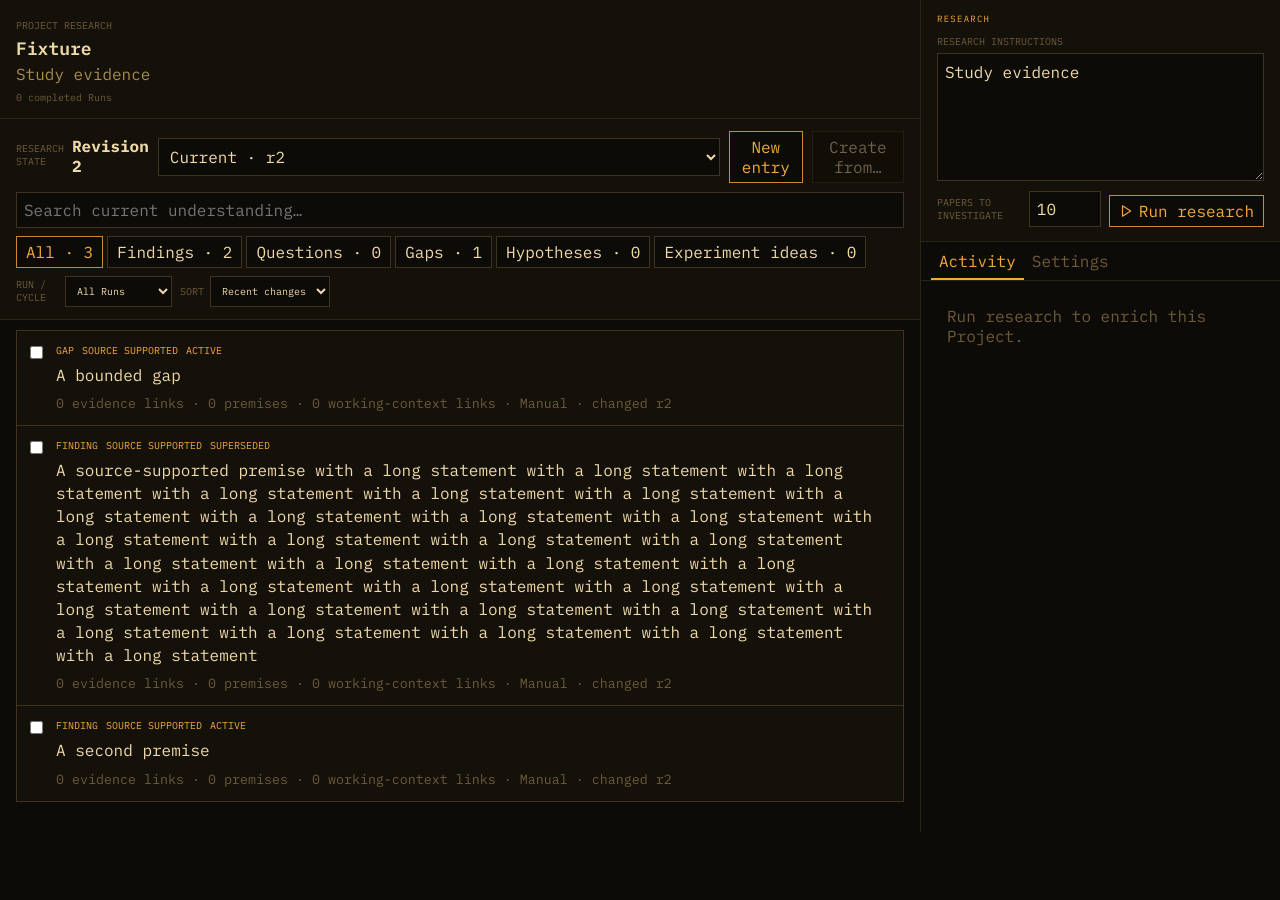
Test: failed navigation keeps the current detail and does not push history
Click the 1st button with class "entry-content": click(130, 350) [43, 331, 903, 425]
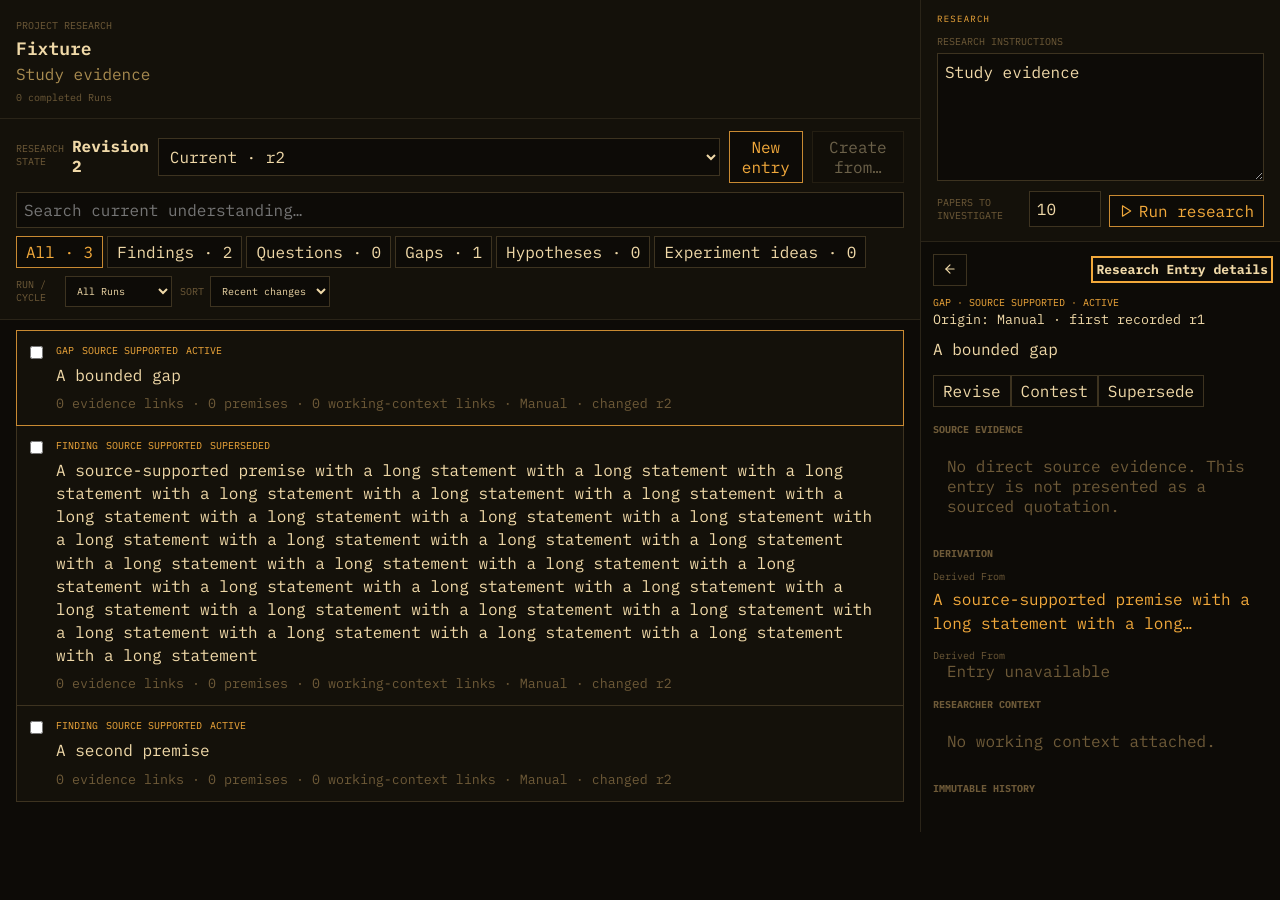
Result: the text with class "detail-text" reads "A bounded gap" at [933, 340, 1058, 360]
Result: the button with class "relation-link" is shown
Click the button with class "relation-link": click(1100, 611) [933, 583, 1268, 639]
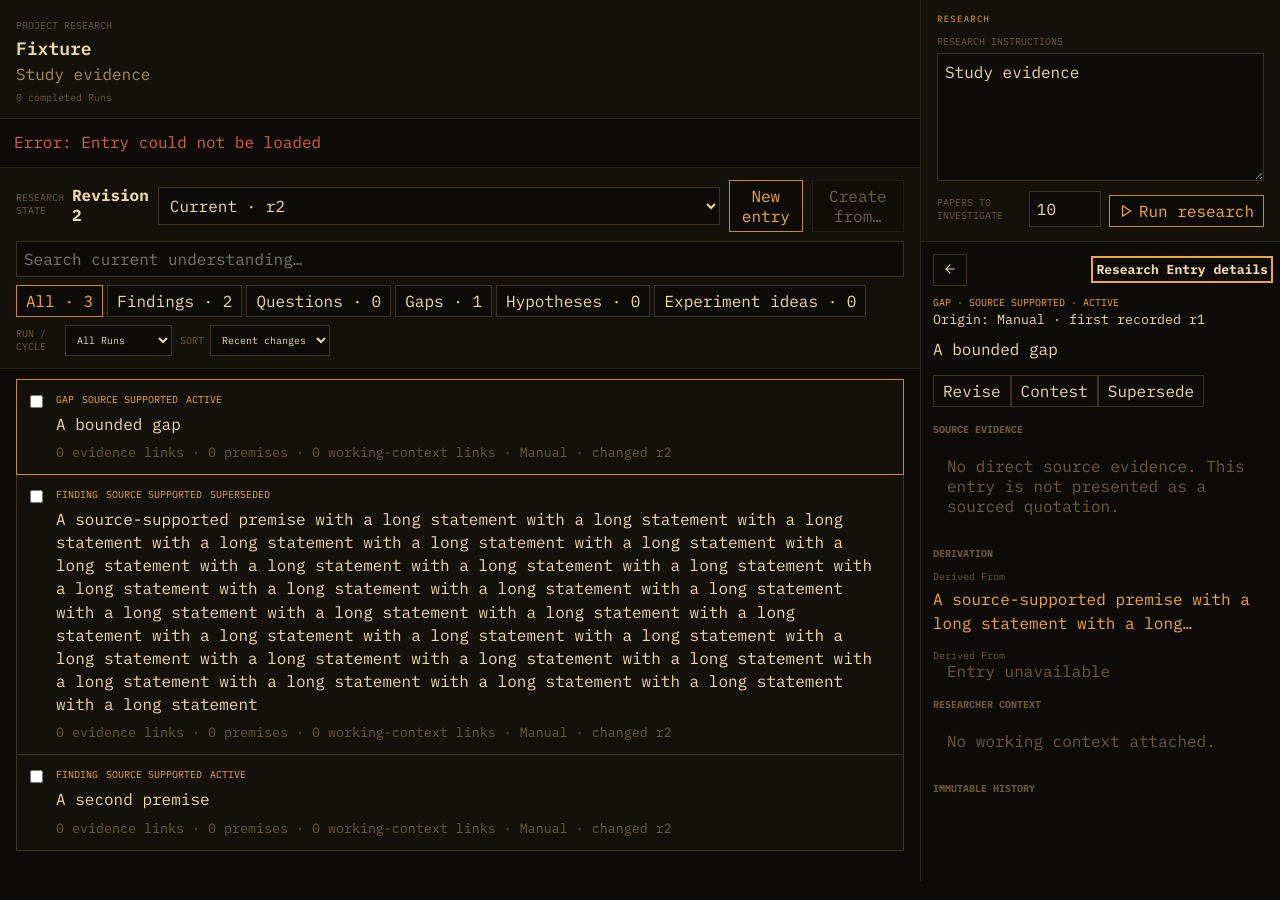
Result: the text with class "detail-text" reads "A bounded gap" at [933, 340, 1058, 360]
Result: the button named "Back" is shown
Result: the text "Entry could not be loaded" is shown at [14, 133, 321, 153]
Click the button named "Back": click(950, 270) [933, 254, 967, 286]
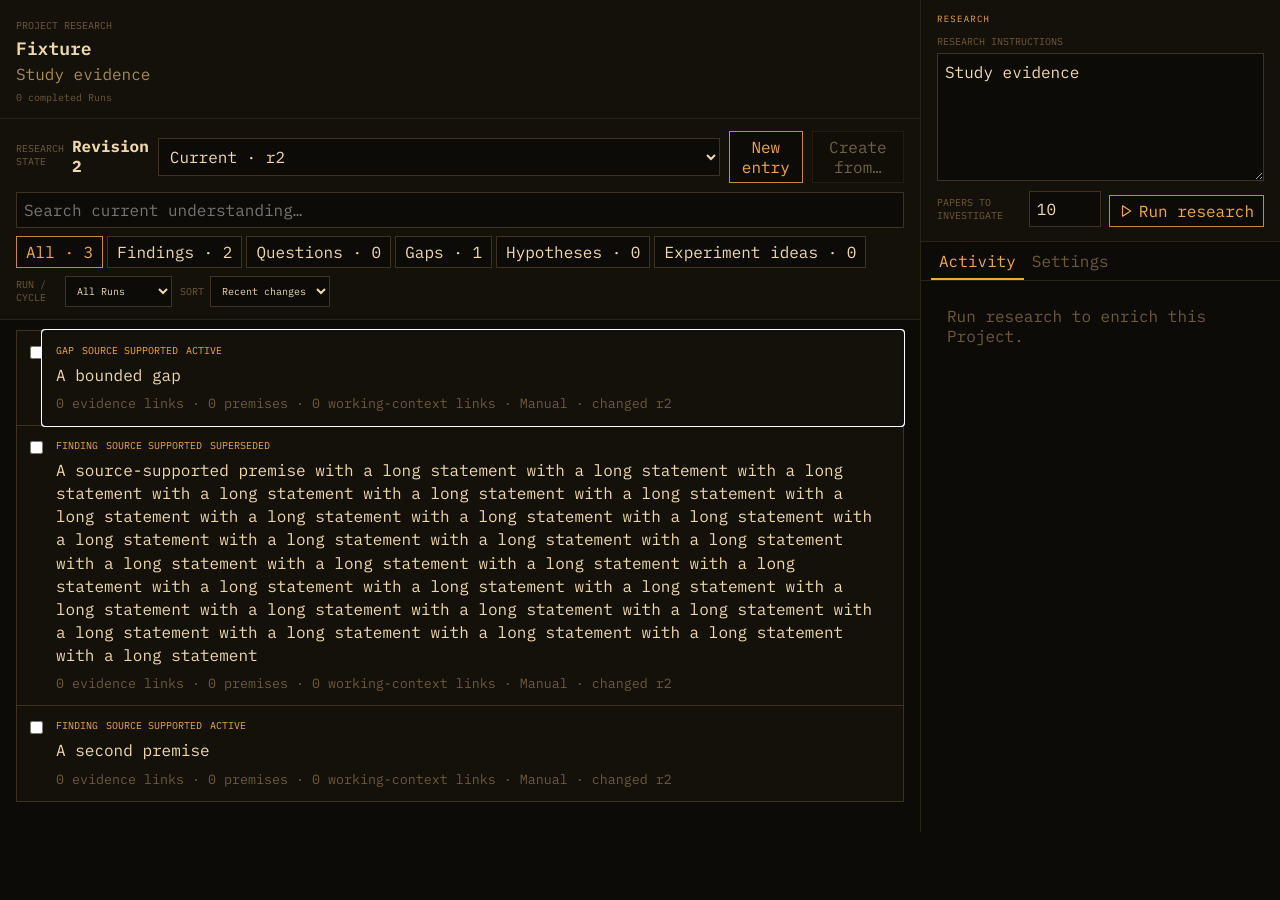
Result: the text with class "detail-text" is gone
